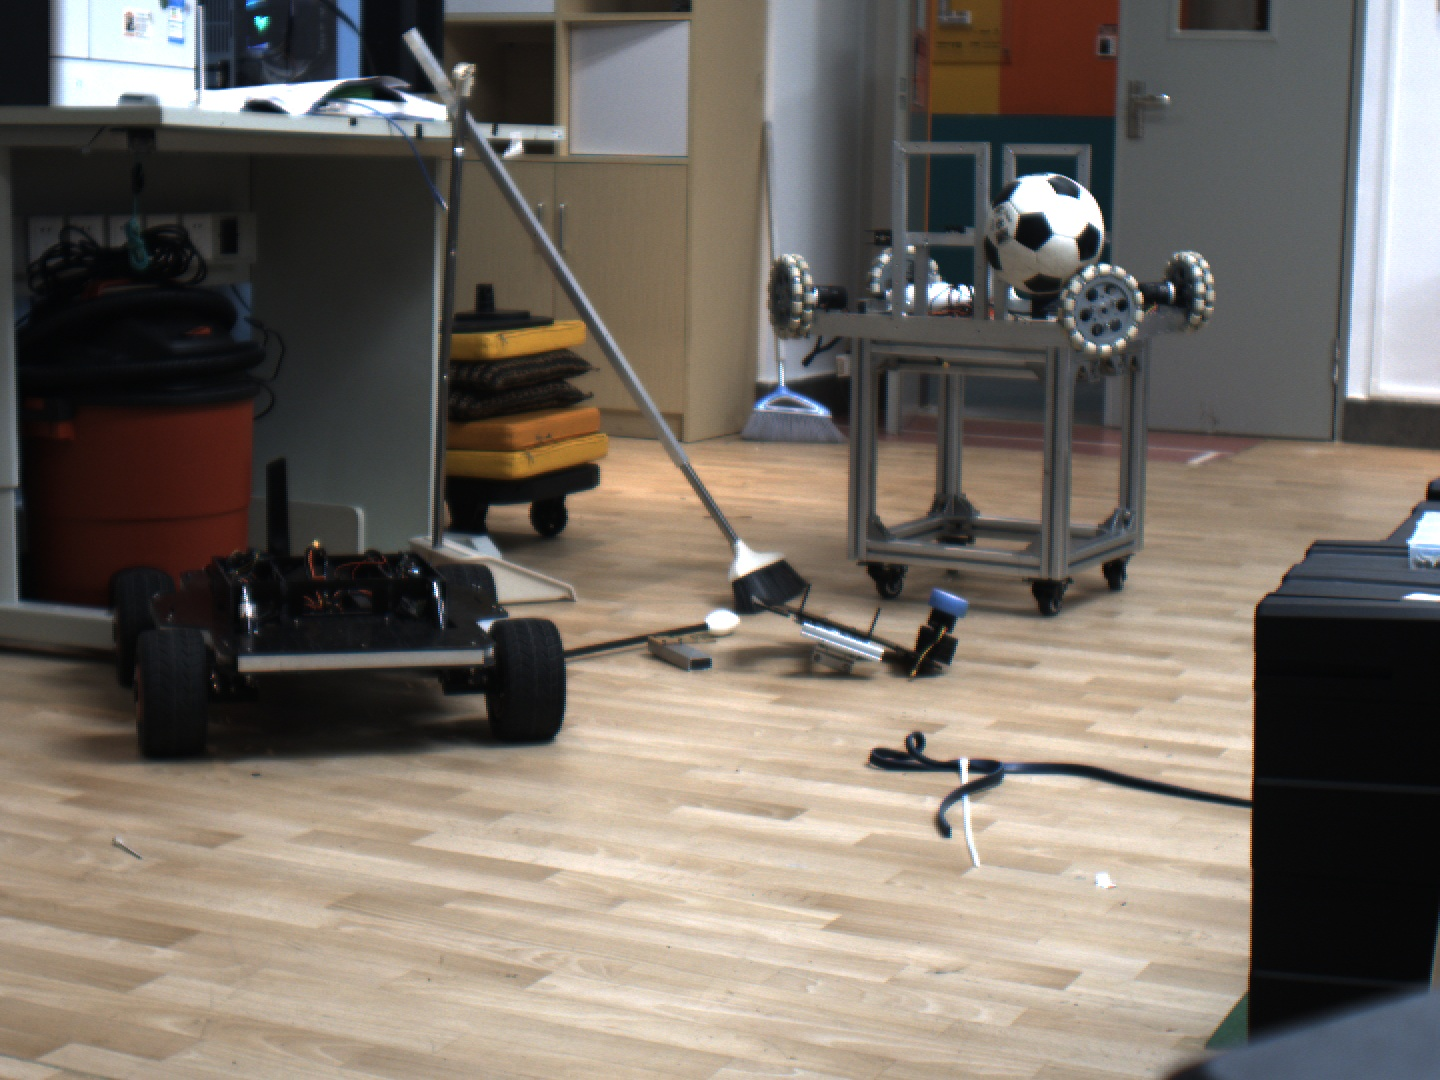ball: (975, 159, 1123, 305)
